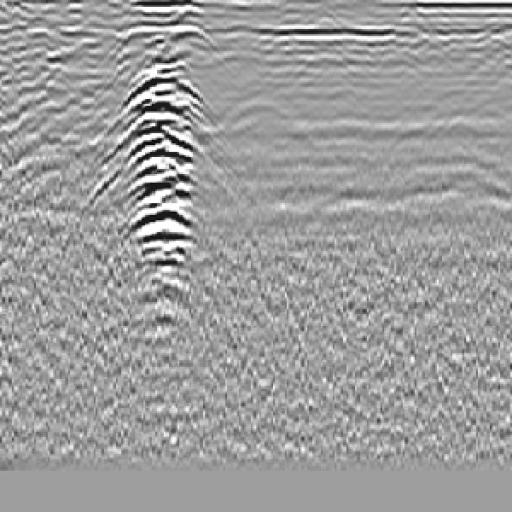metalic: (112, 13, 216, 333)
nonmetalic: (204, 92, 323, 193)
